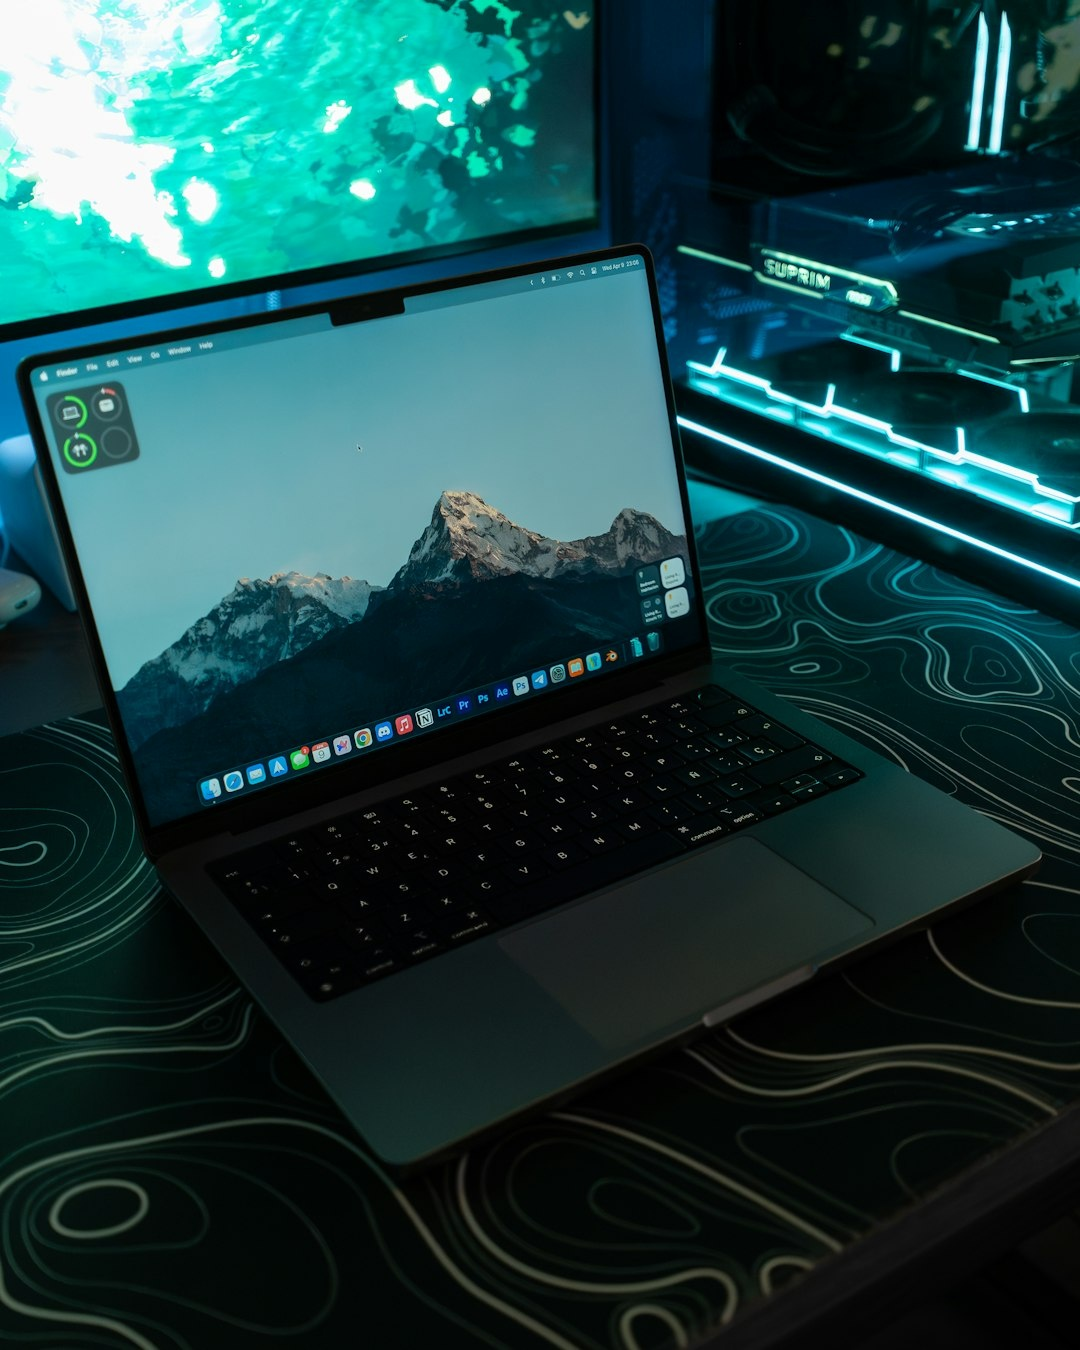laptop: (3, 226, 1080, 1175)
